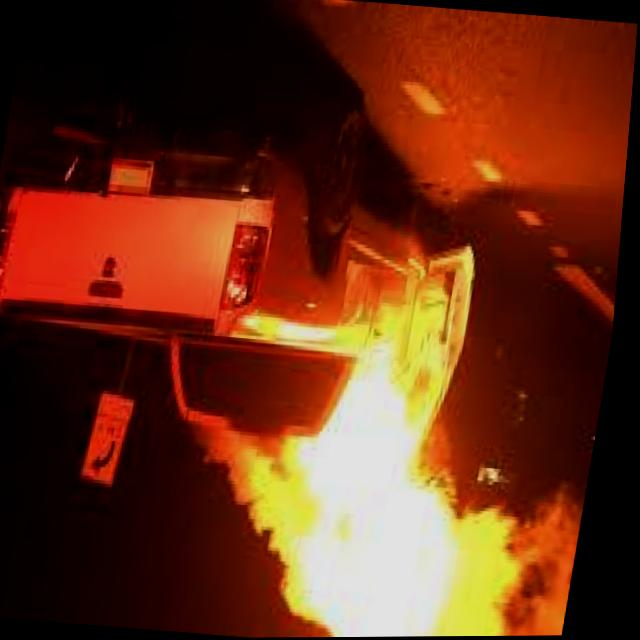Fire: (165, 308, 618, 639)
